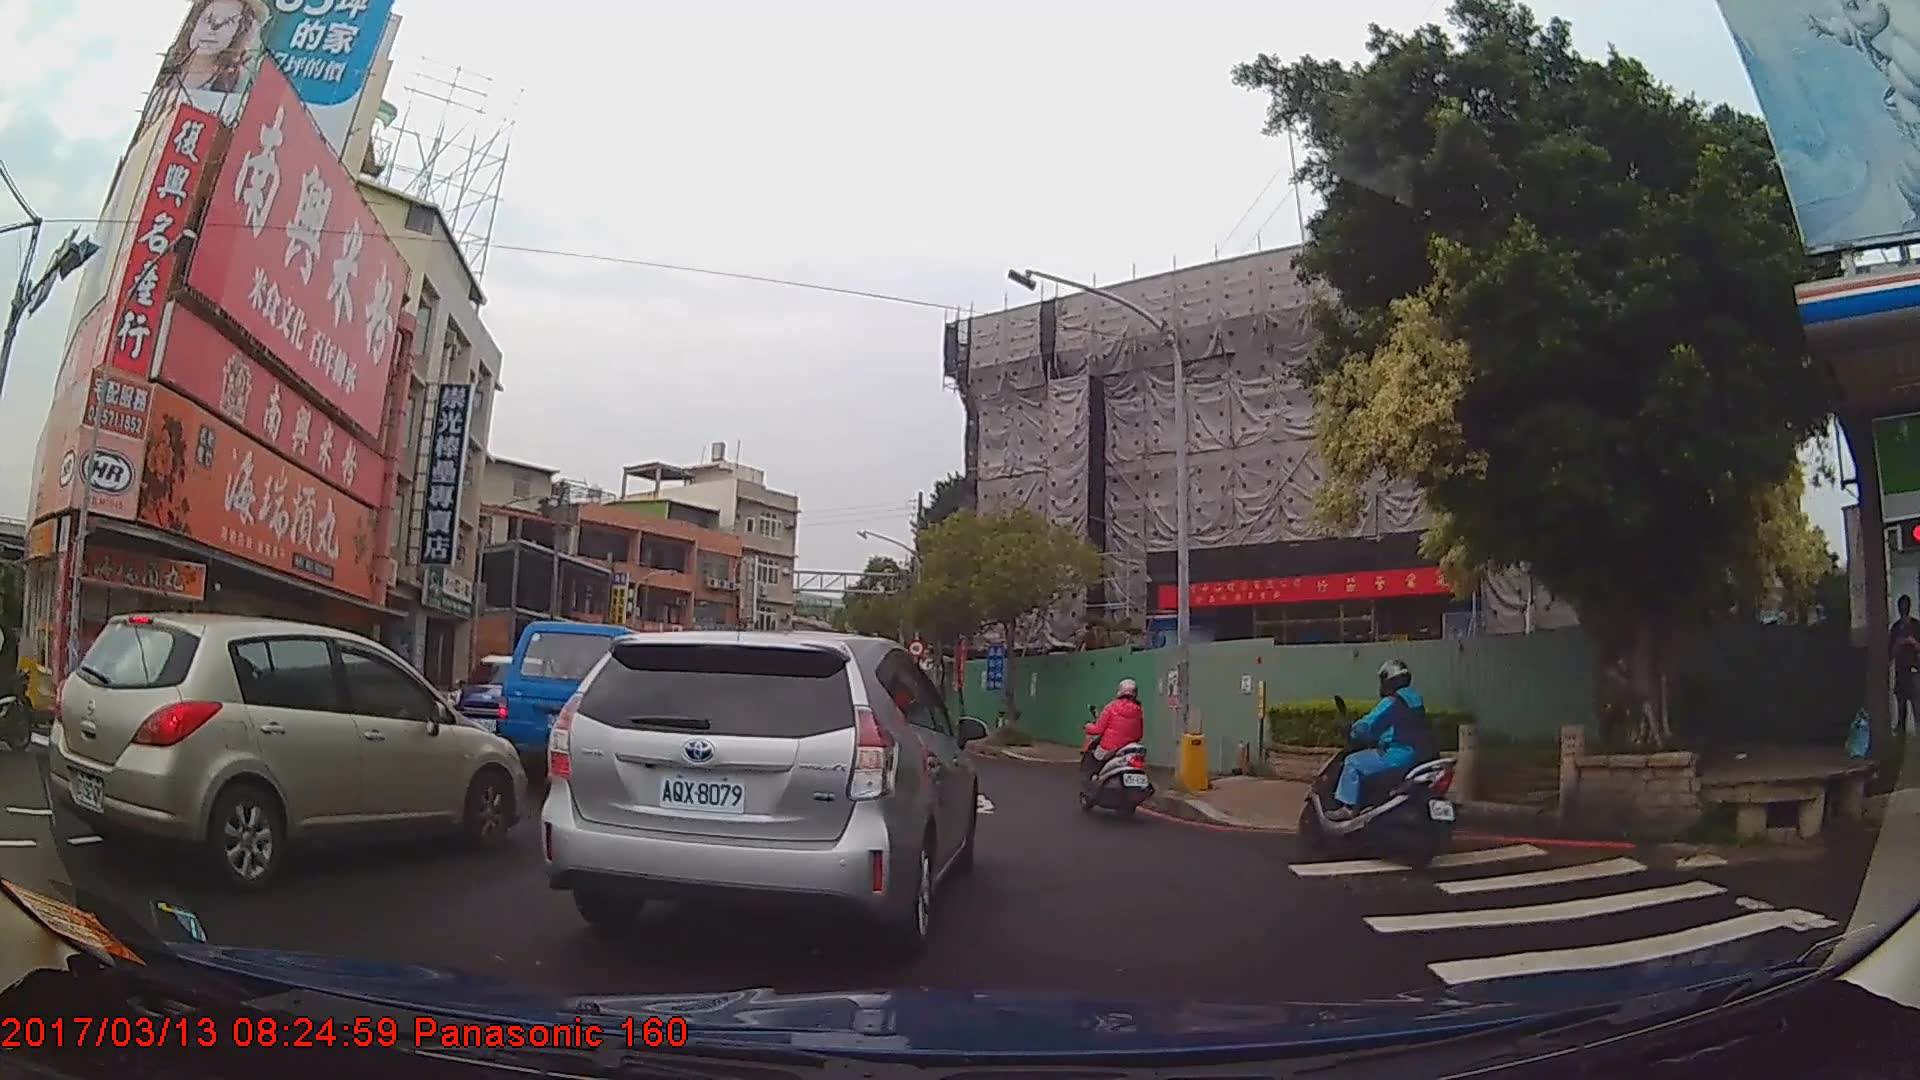pedestrian: (1887, 595, 1920, 734)
rider: (1299, 661, 1462, 861), (1073, 673, 1153, 817)
vehicle: (533, 625, 978, 949), (45, 611, 524, 891), (494, 619, 654, 787), (438, 648, 565, 757)
